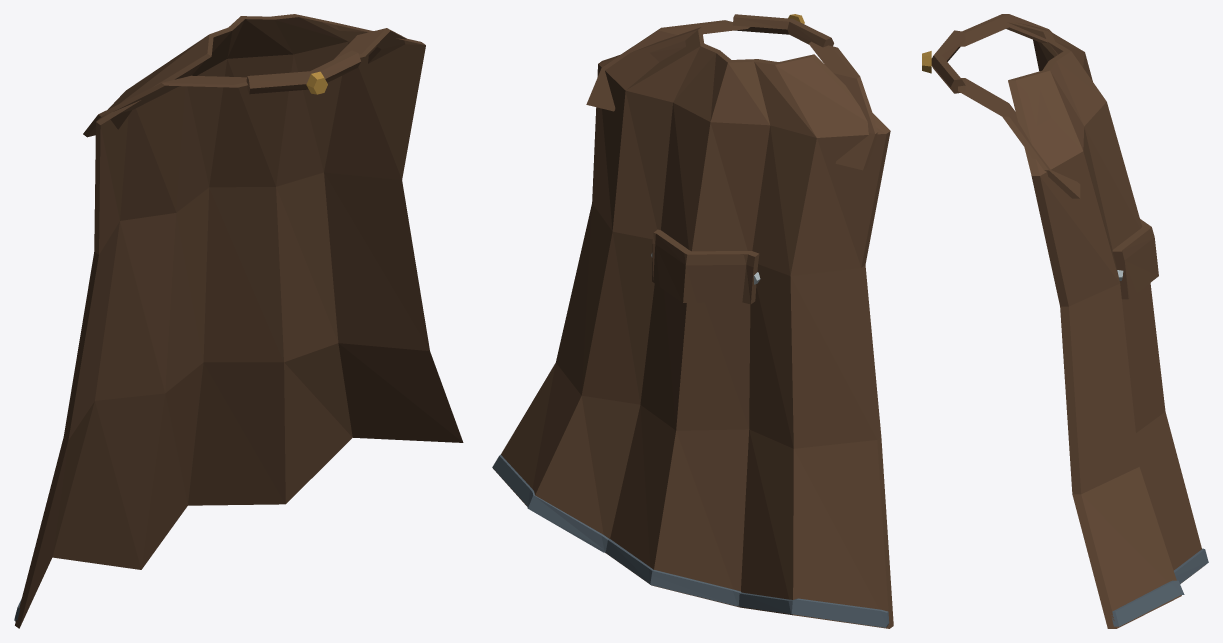
File: studded_back-female-thickHide.glb
The picture shows the model from 3 angles, left to right: view 1: azimuth 30°, elevation 25°; view 2: azimuth 150°, elevation 25°; view 3: azimuth 270°, elevation 25°; orthographic projection. The views are drawn at different scales.
Parts seen in each view (by area): view 1: studded draped back mantle, Mantle neck fastening, Mantle shoulder fall -1, Mantle shoulder fall 1; view 2: studded draped back mantle, Mantle weighted bound hem, Heavy hide binding studded draped back mantle, Mantle shoulder fall -1, Mantle shoulder fall 1, Mantle neck fastening; view 3: studded draped back mantle, Heavy hide binding studded draped back mantle, Mantle shoulder fall 1, Mantle weighted bound hem, Mantle shoulder fall -1, Mantle neck fastening.
Part boxes in pixels (left/top/right/bottom): studded draped back mantle: left=15, top=14, right=463, bottom=628; Mantle neck fastening: left=246, top=50, right=360, bottom=94; Mantle shoulder fall -1: left=83, top=75, right=247, bottom=137; Mantle shoulder fall 1: left=334, top=28, right=406, bottom=63; studded draped back mantle: left=493, top=27, right=893, bottom=628; Mantle weighted bound hem: left=492, top=454, right=889, bottom=627; Heavy hide binding studded draped back mantle: left=652, top=229, right=759, bottom=304; Mantle shoulder fall -1: left=809, top=41, right=878, bottom=170; Mantle shoulder fall 1: left=586, top=20, right=750, bottom=111; Mantle neck fastening: left=733, top=14, right=833, bottom=47; studded draped back mantle: left=1008, top=22, right=1201, bottom=628; Heavy hide binding studded draped back mantle: left=1112, top=219, right=1158, bottom=299; Mantle shoulder fall 1: left=958, top=78, right=1080, bottom=198; Mantle weighted bound hem: left=1111, top=548, right=1208, bottom=626; Mantle shoulder fall -1: left=959, top=14, right=1057, bottom=56; Mantle neck fastening: left=931, top=30, right=965, bottom=93.
Bounding box in the file's own units: 2.69 × 3.32 × 1.6.
